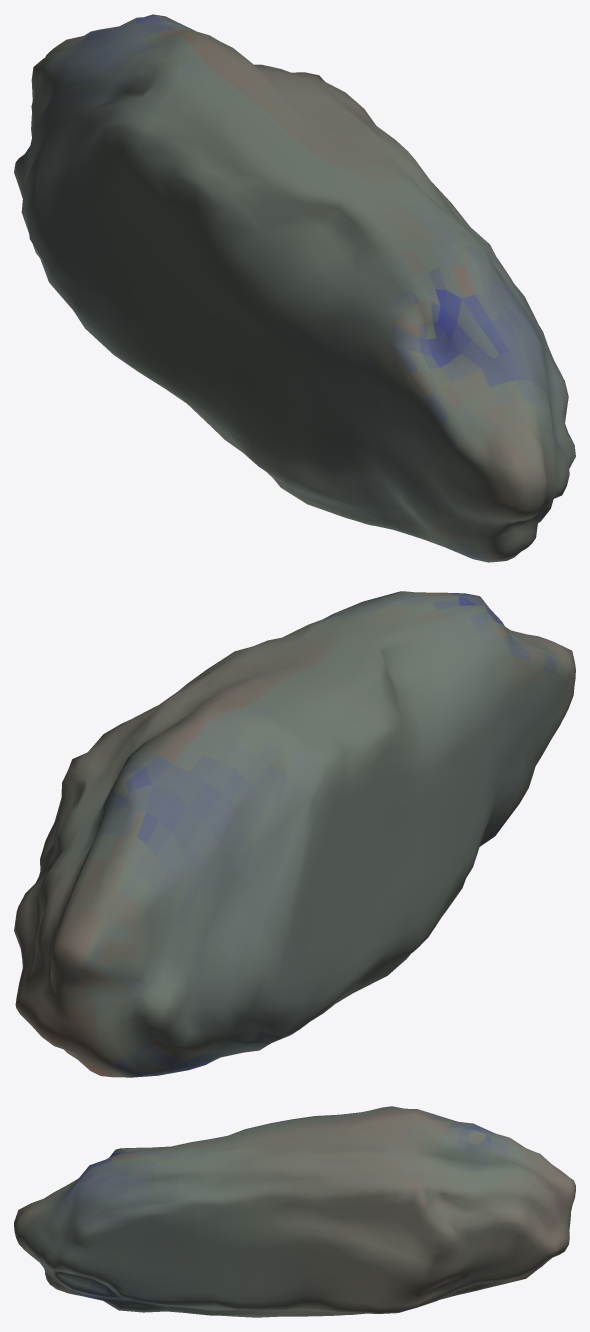
Rendered from Rock_1.fbx.
The picture shows the model from 3 angles, top to bottom: view 1: azimuth 30°, elevation 25°; view 2: azimuth 150°, elevation 25°; view 3: azimuth 270°, elevation 25°; orthographic projection. The views are drawn at different scales.
Parts seen in each view (by area): view 1: Rock_1; view 2: Rock_1; view 3: Rock_1.
Boxes of the visible parts, box(x1,y1,x2,y2) form: Rock_1: box(14, 14, 575, 562); Rock_1: box(14, 591, 575, 1077); Rock_1: box(14, 1106, 575, 1317).
Bounding box in the file's own units: 445 × 570 × 1433.
